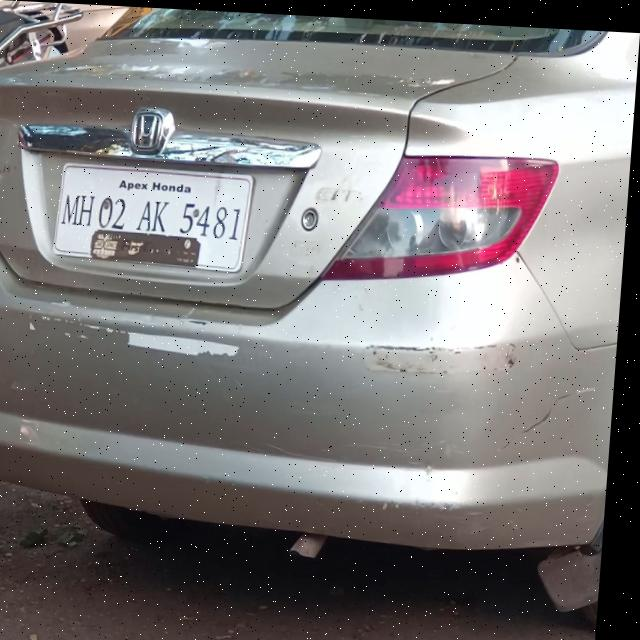plate: (56, 161, 258, 269)
